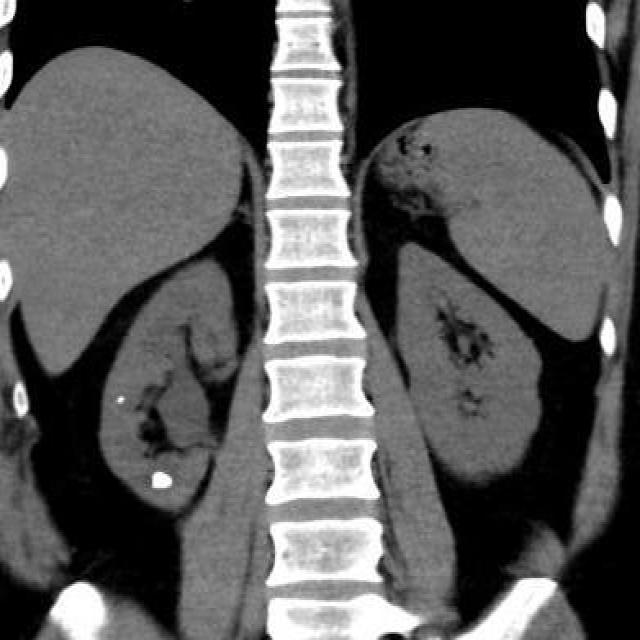Tas_Var: (146, 467, 176, 497), (110, 392, 128, 408)
